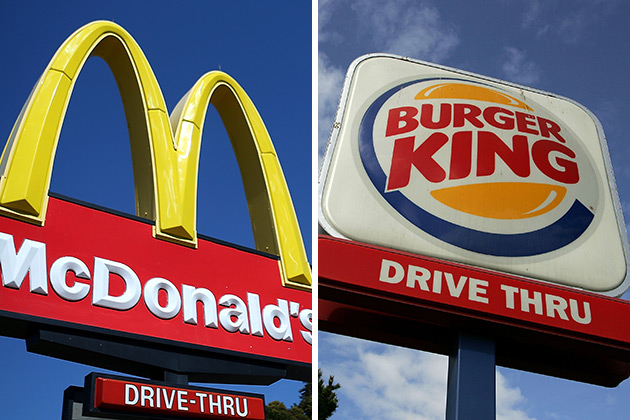mcdonalds: (0, 18, 313, 287)
